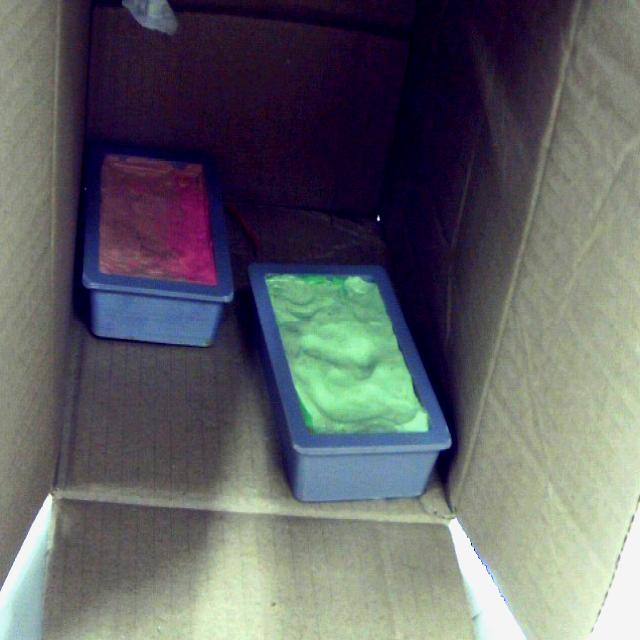block: (245, 260, 454, 500), (80, 142, 239, 346)
